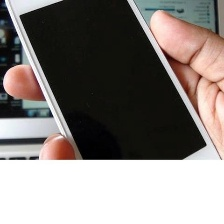phone: (2, 0, 223, 197)
